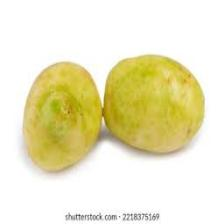Defected potato: (100, 48, 208, 159), (21, 58, 104, 174)
